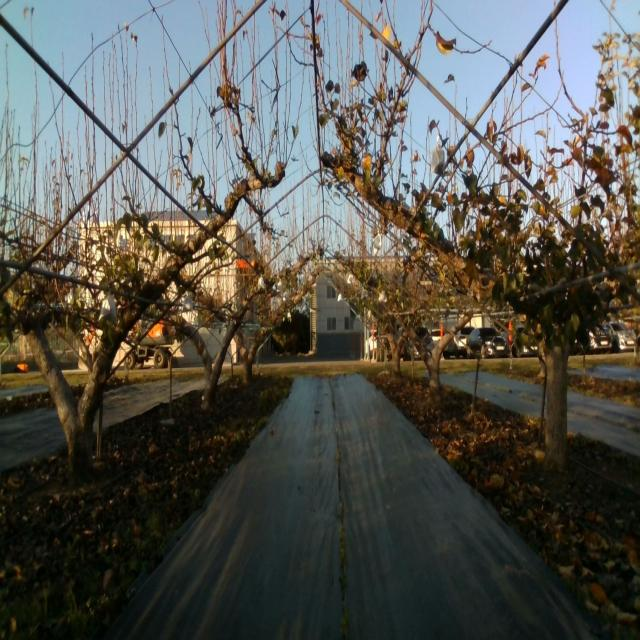pearbags: (99, 294, 119, 326), (431, 144, 445, 176), (372, 232, 382, 255), (183, 296, 194, 314)
